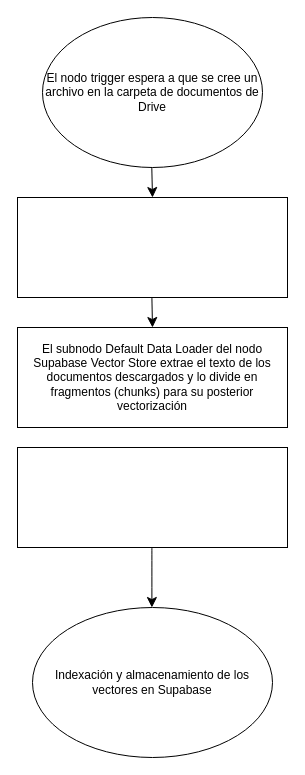
The diagram is 305 pixels wide and 775 high, and some of its shapes have lost their labels. The shapes that lost their labels are listed below. From the top down, each one's centre as x and y in pixels, then its label:
At (152,247): "El nodo Download file descarga cada uno de los documentos (individualmente)".
At (152,497): "Transformación de los chunks en vectores mediante Embeddings de OpenAI".
